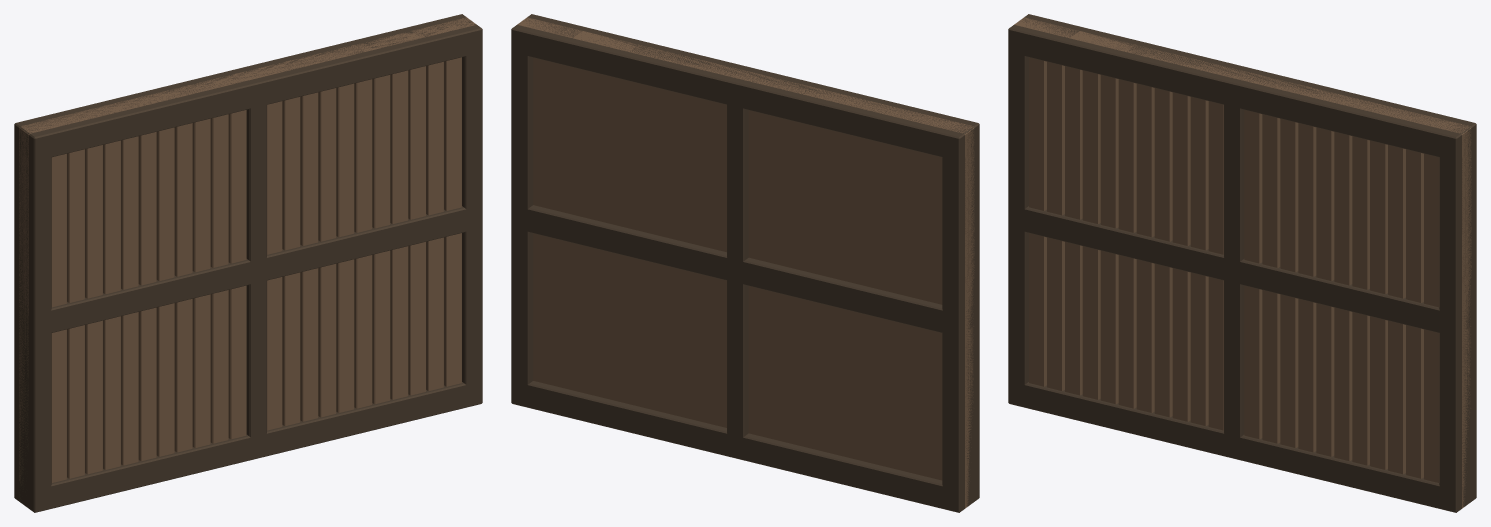
The model's file is SM_Henhouse_Wall_500_A.fbx.
3 views of the same model, side by side, from view 1: azimuth 30°, elevation 25°; view 2: azimuth 150°, elevation 25°; view 3: azimuth 330°, elevation 25° (orthographic).
Visible parts, largest first — view 1: SM_Henhouse_Wall_500_A; view 2: SM_Henhouse_Wall_500_A; view 3: SM_Henhouse_Wall_500_A.
Boxes of the visible parts, x1,y1,x2,y2 form: SM_Henhouse_Wall_500_A: (14,14,482,512); SM_Henhouse_Wall_500_A: (511,14,979,512); SM_Henhouse_Wall_500_A: (1008,14,1476,512).
Size of what is drawn, in the model's own units: 40 by 500 by 400.
